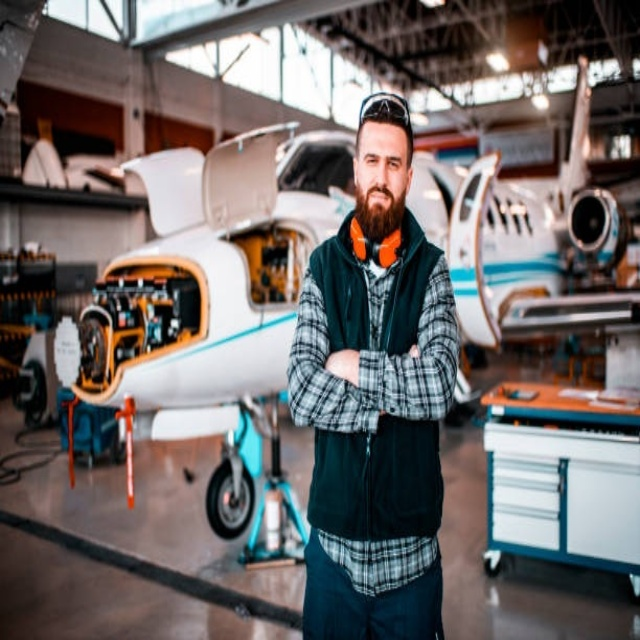Sin_gafas: (360, 143, 406, 177)
Sin_mascara: (367, 182, 388, 218)
